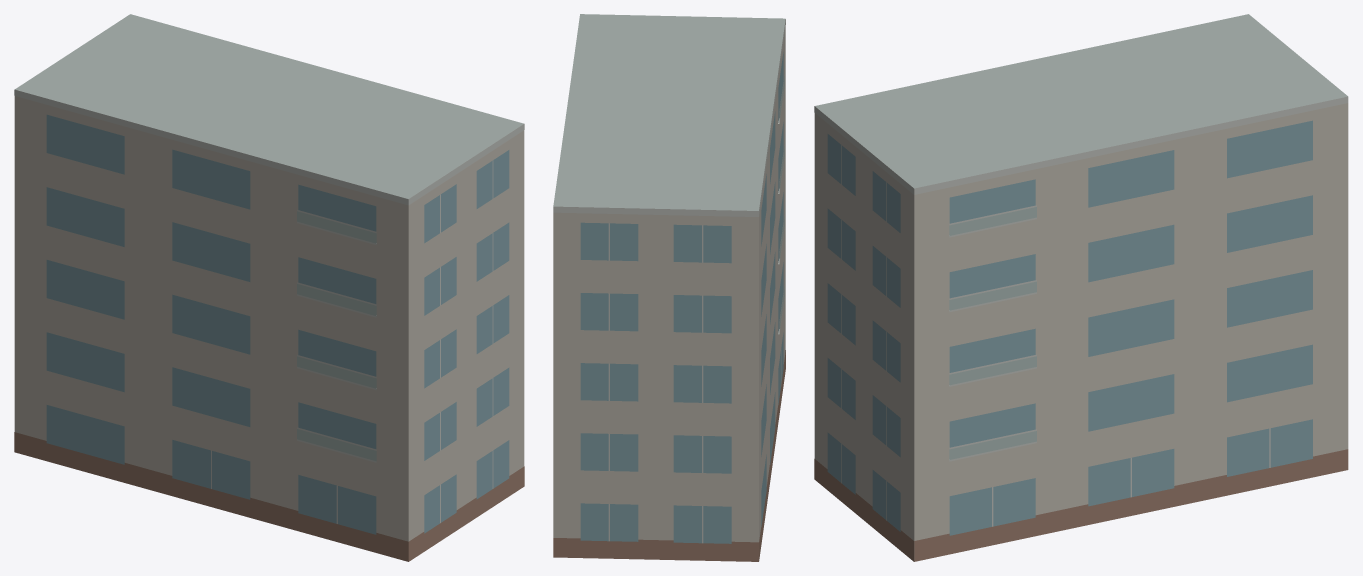
The model's file is survey-upis-32666224.glb.
3 renders of one model, left to right at view 1: azimuth 30°, elevation 25°; view 2: azimuth 150°, elevation 25°; view 3: azimuth 270°, elevation 25°, orthographic. The views are drawn at different scales.
Parts seen in each view (by area): view 1: survey-upis-32666224.tmp; view 2: survey-upis-32666224.tmp; view 3: survey-upis-32666224.tmp.
Boxes of the visible parts, x1,y1,x2,y2 form: survey-upis-32666224.tmp: (14,14,524,561); survey-upis-32666224.tmp: (553,14,785,561); survey-upis-32666224.tmp: (814,14,1348,561).
Bounding box in the file's own units: 14.14 × 14.1 × 18.28.
